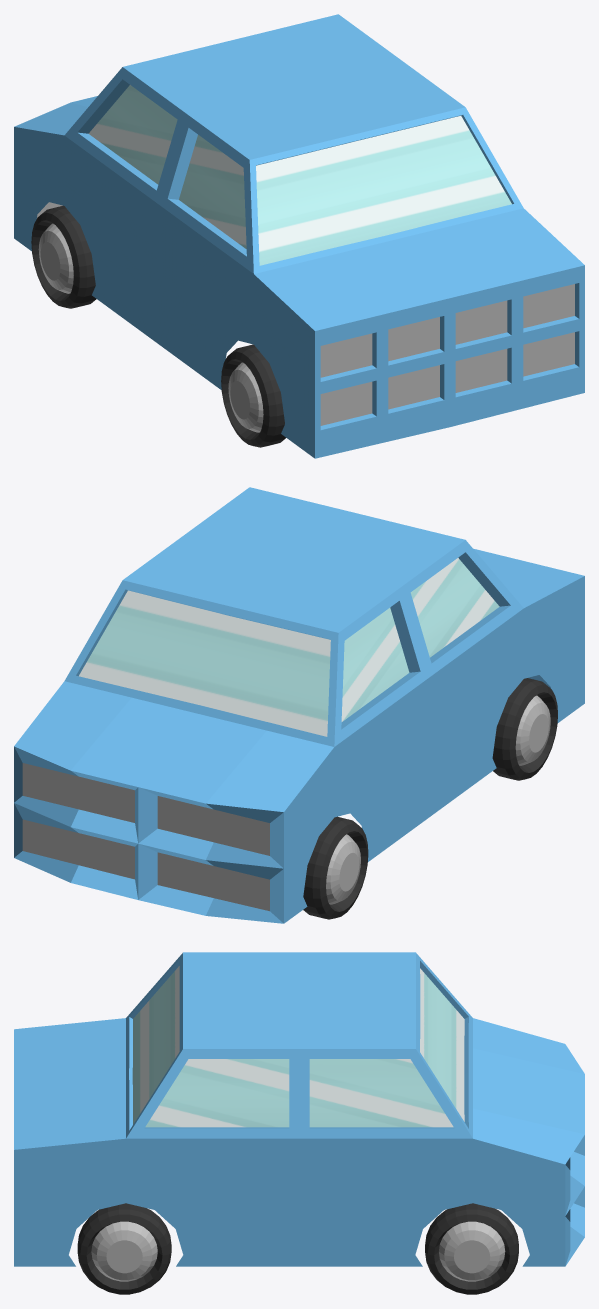
File: Props_Car_02.fbx
3 views of the same model, one above another, from view 1: azimuth 30°, elevation 25°; view 2: azimuth 150°, elevation 25°; view 3: azimuth 270°, elevation 25° (orthographic). The views are drawn at different scales.
Parts seen in each view (by area): view 1: Props_Car_02; view 2: Props_Car_02; view 3: Props_Car_02.
Part boxes in pixels (x1,y1,x2,y2): Props_Car_02: (14, 14, 584, 458); Props_Car_02: (14, 487, 584, 923); Props_Car_02: (14, 952, 584, 1294).
Size of the model in its own units: 111 by 89.53 by 200.
